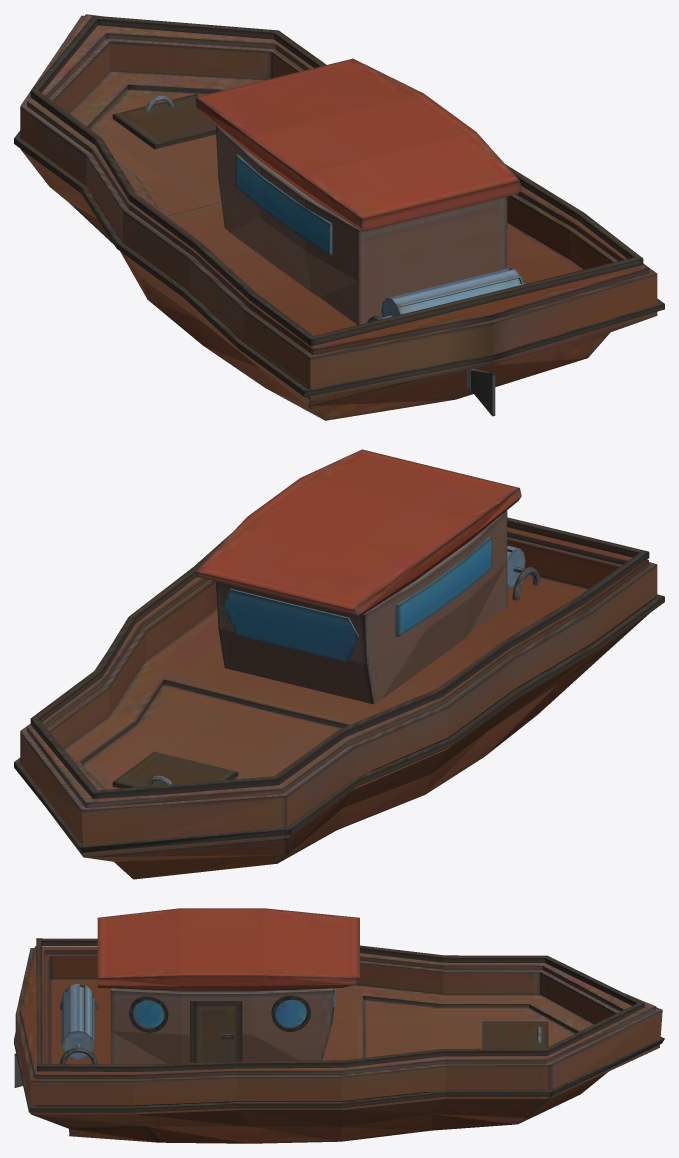
The model's file is e02dSDtIoo1.glb.
3 renders of one model, top to bottom at view 1: azimuth 30°, elevation 25°; view 2: azimuth 150°, elevation 25°; view 3: azimuth 270°, elevation 25°, orthographic. The views are drawn at different scales.
Visible parts, largest first — view 1: Node; view 2: Node; view 3: Node.
Part boxes in pixels (box(x1,y1,x2,y2)): Node: box(14, 14, 664, 420); Node: box(14, 449, 664, 879); Node: box(14, 908, 664, 1143).
Bounding box in the file's own units: 1.8 × 1 × 3.58.
Materials: 1 (1 with a texture image).
